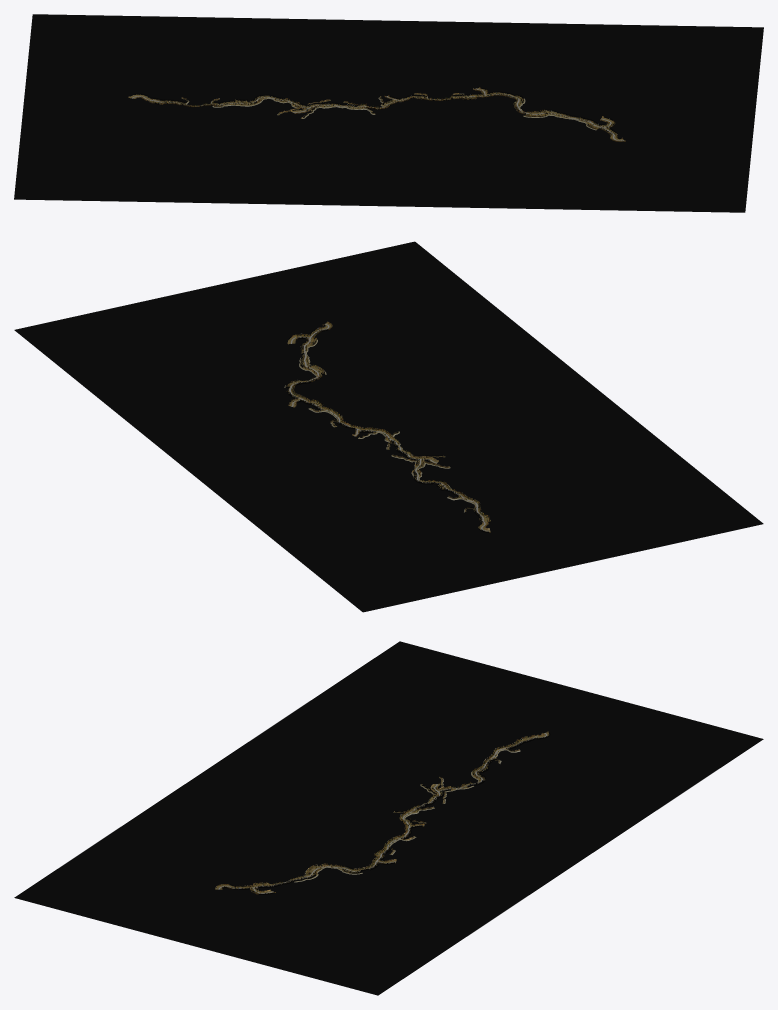
The model's file is finland_stage3_visual.glb.
The picture shows the model from 3 angles, top to bottom: view 1: azimuth 30°, elevation 25°; view 2: azimuth 150°, elevation 25°; view 3: azimuth 270°, elevation 25°; orthographic projection. The views are drawn at different scales.
Parts seen in each view (by area): view 1: Props_And_Markers, Track_Road_And_Terrain, Foliage_And_Vegetation; view 2: Props_And_Markers, Track_Road_And_Terrain, Foliage_And_Vegetation; view 3: Props_And_Markers, Track_Road_And_Terrain, Foliage_And_Vegetation.
Boxes of the visible parts, <box> form: Props_And_Markers: <box>14,14,763,212</box>; Track_Road_And_Terrain: <box>128,87,625,142</box>; Foliage_And_Vegetation: <box>133,87,624,141</box>; Props_And_Markers: <box>14,241,763,612</box>; Track_Road_And_Terrain: <box>284,321,490,532</box>; Foliage_And_Vegetation: <box>286,322,490,531</box>; Props_And_Markers: <box>14,641,763,995</box>; Track_Road_And_Terrain: <box>215,731,550,894</box>; Foliage_And_Vegetation: <box>216,733,549,893</box>.
Bounding box in the file's own units: 6903 × 54.67 × 6174.
Materials: 60 (60 with a texture image).
